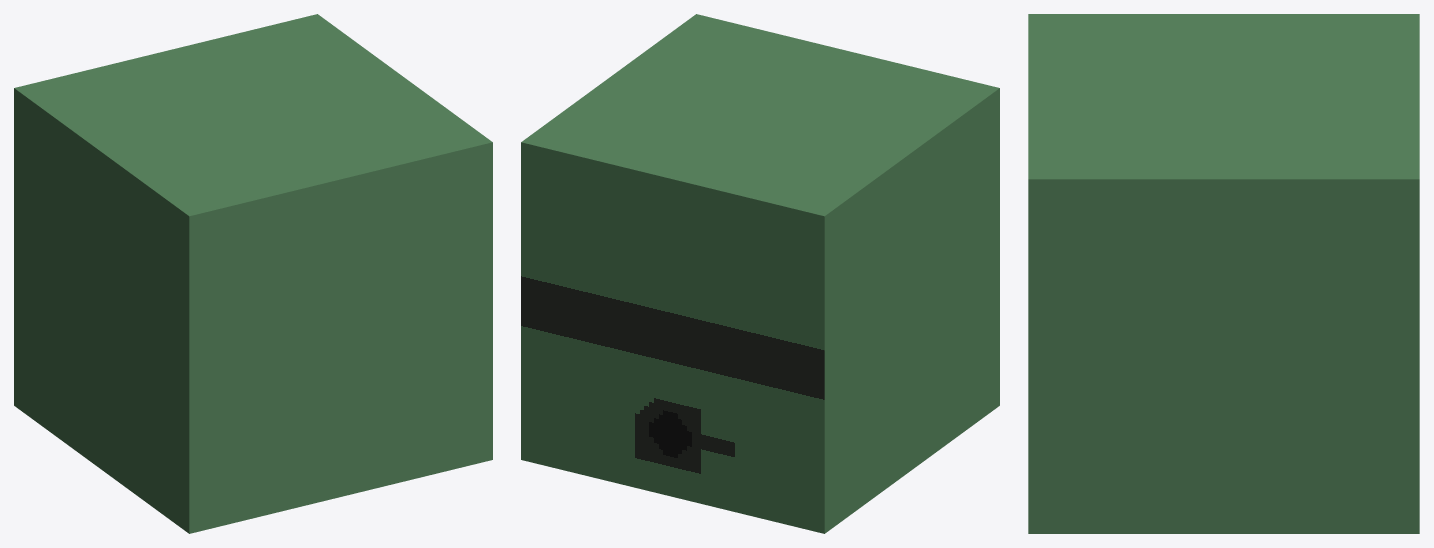
Rendered from blockdwarfsignalbottom.obj.
3 renders of one model, left to right at view 1: azimuth 30°, elevation 25°; view 2: azimuth 150°, elevation 25°; view 3: azimuth 270°, elevation 25°, orthographic. The views are drawn at different scales.
Visible parts, largest first — view 1: generalCube.002, off.002; view 2: generalCube.002, off.002; view 3: generalCube.002, off.002.
Boxes of the visible parts, box(x1,y1,x2,y2) form: generalCube.002: box(19, 18, 492, 533); off.002: box(14, 14, 327, 413); generalCube.002: box(527, 14, 999, 525); off.002: box(521, 134, 835, 533); generalCube.002: box(1028, 14, 1407, 533); off.002: box(1395, 14, 1419, 533).
Bounding box in the file's own units: 1 × 1 × 1.
3 materials, 3 textured.
